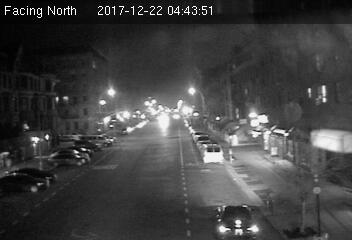car: (212, 200, 262, 239)
truck: (201, 143, 224, 166)
